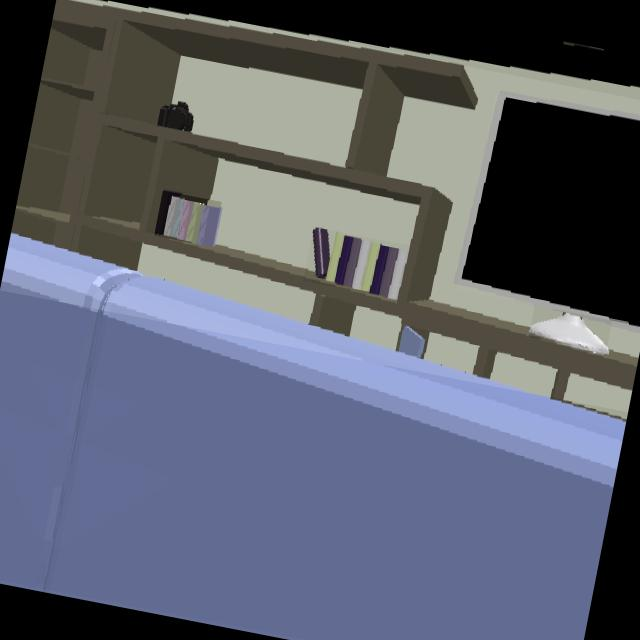book: (313, 231, 408, 300), (155, 192, 219, 247)
monitor: (462, 99, 640, 325), (531, 314, 606, 352)
shelf: (12, 0, 638, 398)
sofa: (0, 236, 624, 640)
